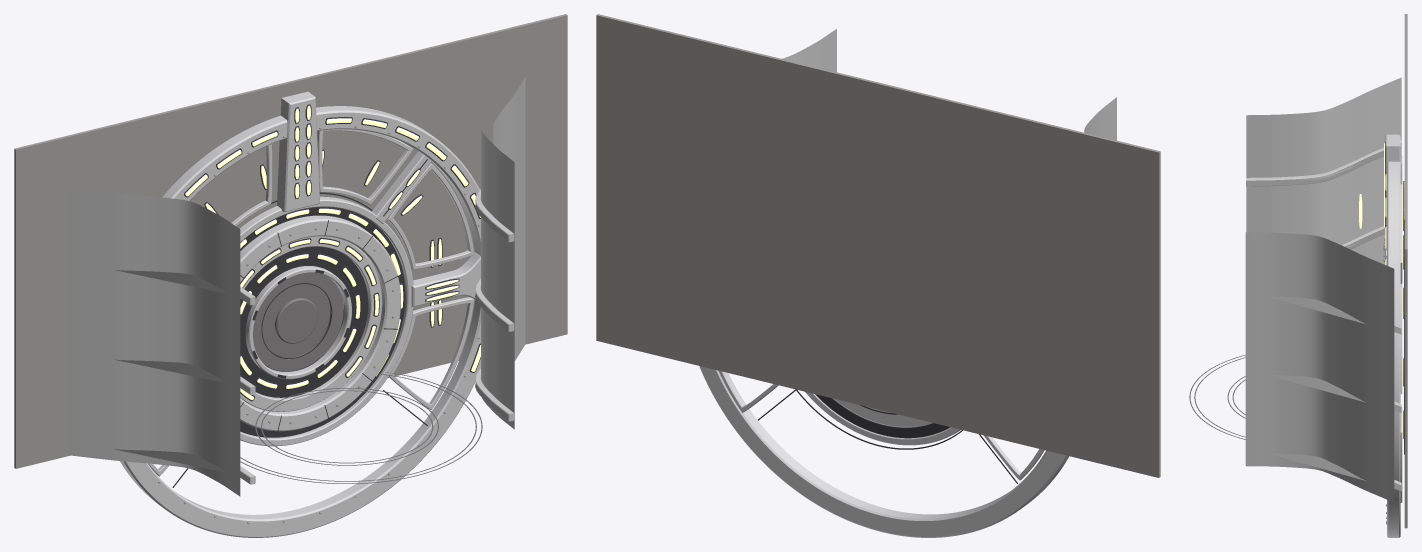
The model's file is conduit-chamber-low.glb.
3 views of the same model, side by side, from view 1: azimuth 30°, elevation 25°; view 2: azimuth 150°, elevation 25°; view 3: azimuth 270°, elevation 25° (orthographic). The views are drawn at different scales.
Parts seen in each view (by area): view 1: steel, hull, shell, trim, iris, segments, floorTrim; view 2: steel, shell, trim, hull; view 3: hull, shell, steel, segments, trim, floorTrim.
Part boxes in pixels (x1,y1,x2,y2): steel: (14, 14, 567, 468); hull: (69, 77, 525, 496); shell: (120, 91, 480, 537); trim: (172, 104, 480, 487); iris: (253, 273, 343, 371); segments: (185, 105, 480, 399); floorTrim: (240, 372, 482, 483); steel: (596, 14, 1160, 477); shell: (699, 82, 1068, 537); trim: (758, 389, 1017, 483); hull: (782, 29, 1116, 140); hull: (1245, 77, 1401, 502); shell: (1384, 134, 1402, 537); steel: (1404, 14, 1407, 528); segments: (1359, 143, 1403, 437); trim: (1384, 142, 1404, 454); floorTrim: (1189, 355, 1245, 439).
Bounding box in the file's own units: 19 × 14.58 × 7.44.
